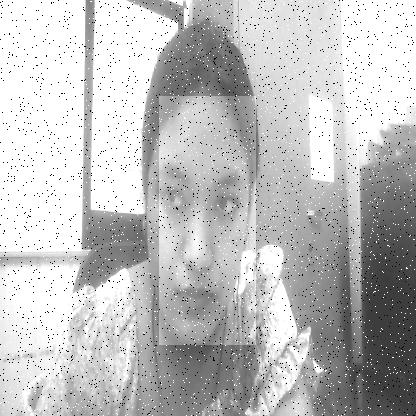Normal: (159, 96, 256, 345)
